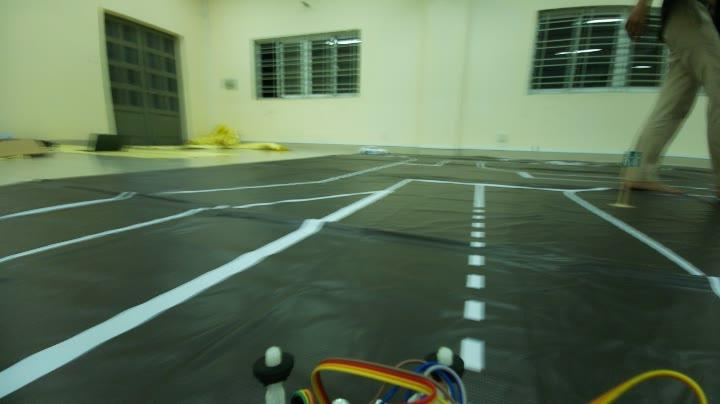highway_entry: (622, 147, 642, 172)
